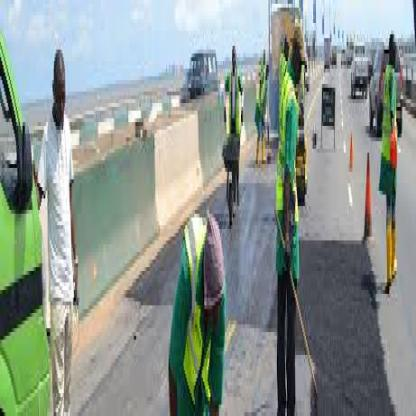car: (372, 33, 407, 136), (350, 29, 368, 112)
